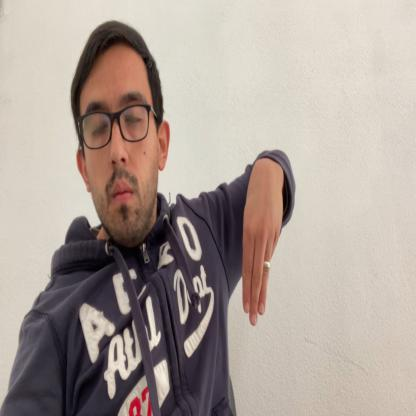M: (242, 171, 284, 327)
